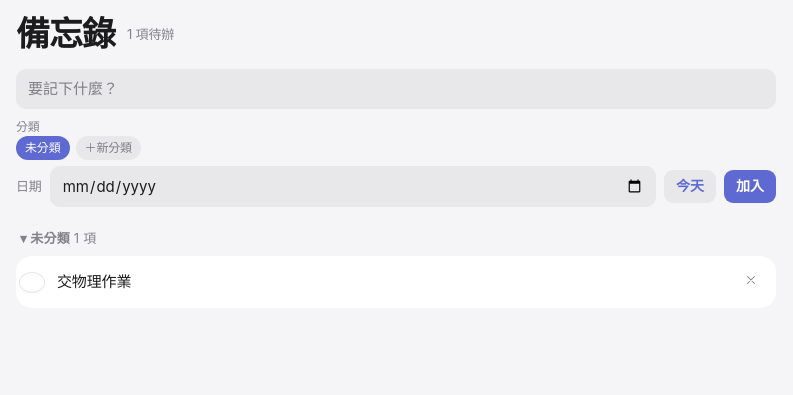
Scenario: 備忘錄更新失敗復原 › PATCH 已提交但回應遺失時，以重讀結果保留完成狀態且不重送
Click the checkbox named "完成「交物理作業」": (32,282) [19,272,45,293]
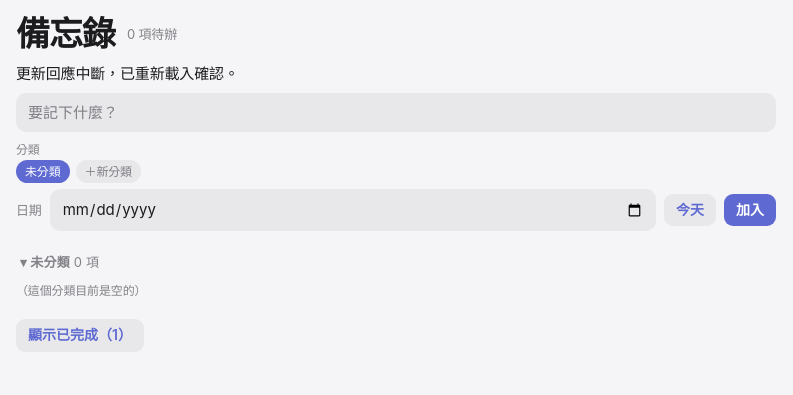
Check: the message shows "已重新載入確認", box [16,64,239,83]
Click the button "顯示已完成（1）": (80,336) [16,319,144,352]
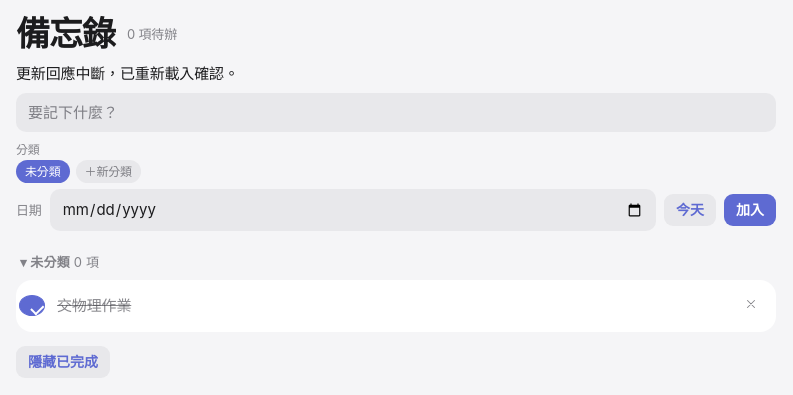
Check: the checkbox named "完成「交物理作業」" is checked, box [19,295,45,316]
